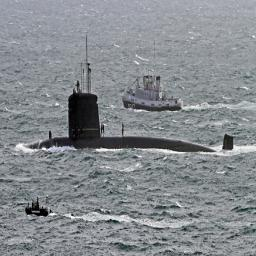submarine: (26, 94, 235, 151)
